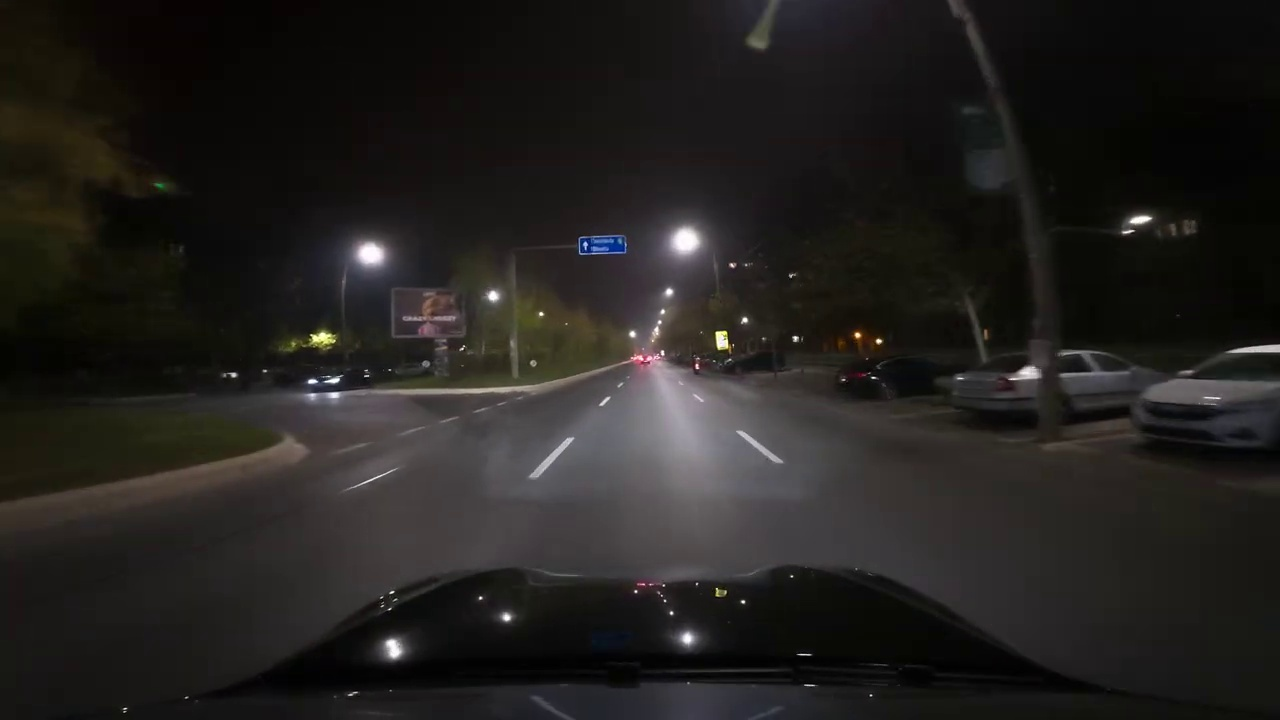acesa: (671, 225, 702, 255), (355, 240, 385, 268)
